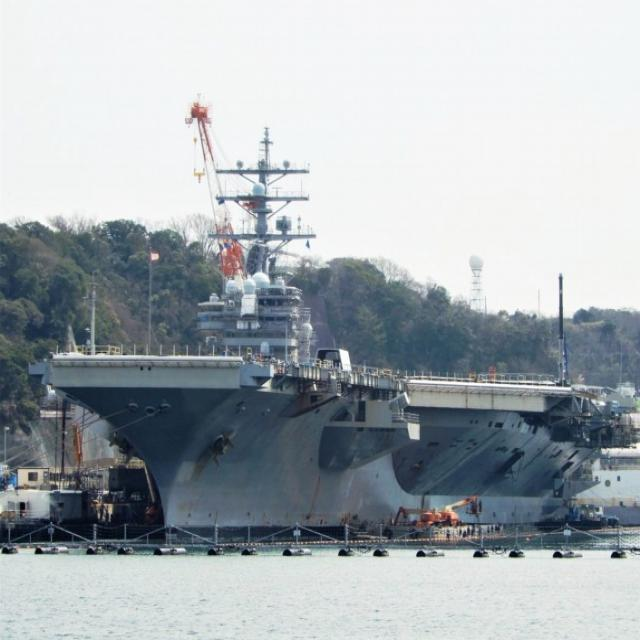Portanaves: (42, 113, 630, 550)
